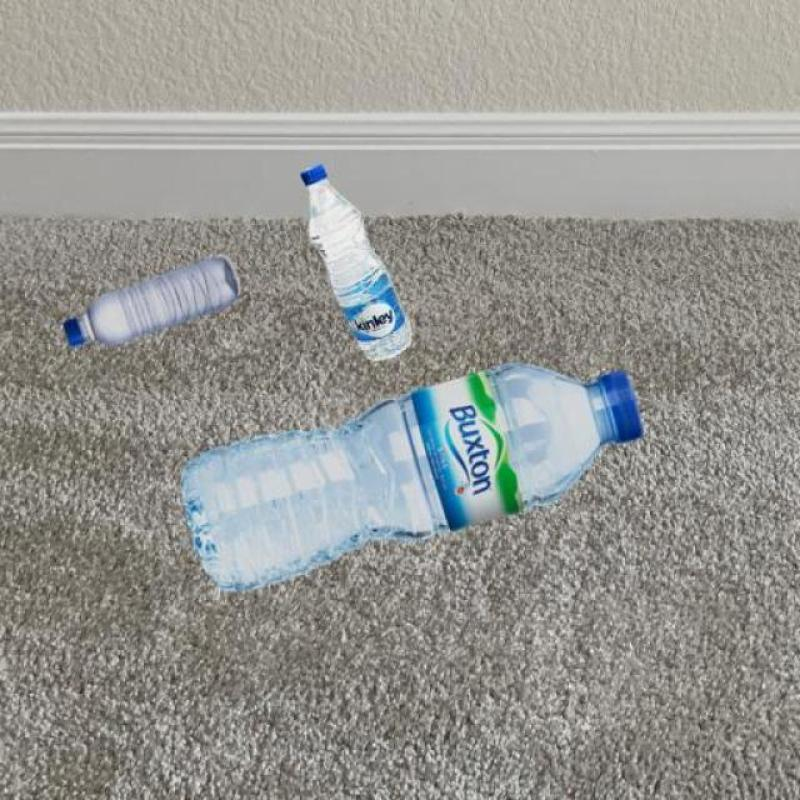botella: (179, 363, 641, 589), (301, 163, 415, 362), (64, 254, 242, 345)
